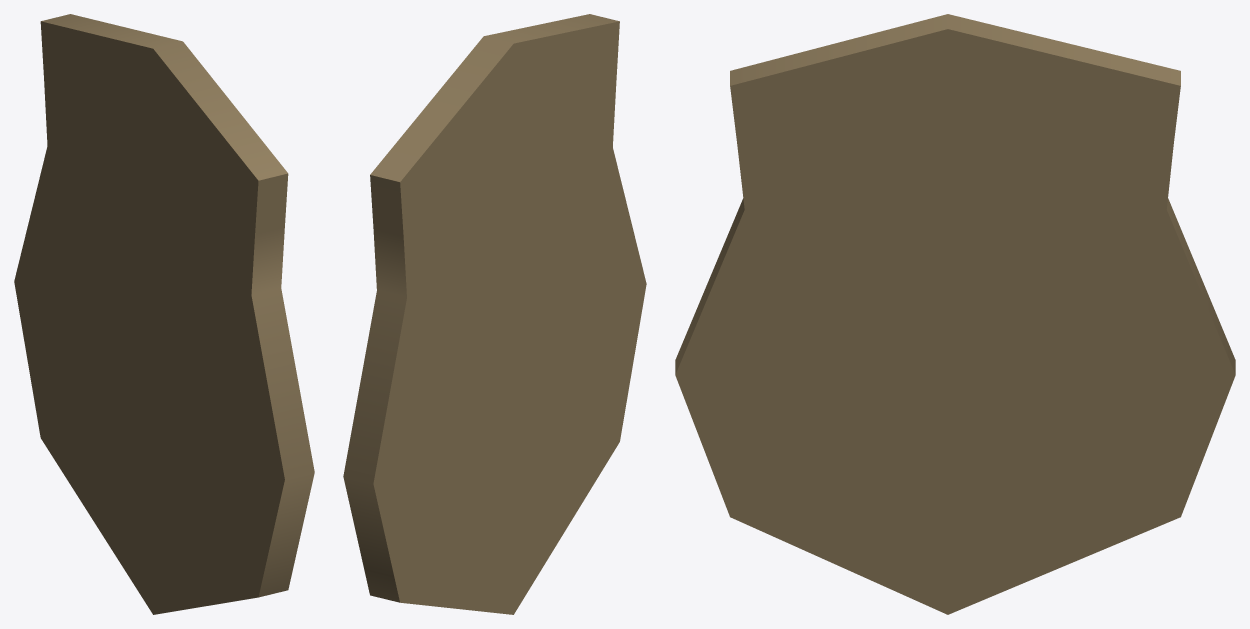
Rendered from Boar_Wood.fbx.
3 renders of one model, left to right at view 1: azimuth 30°, elevation 25°; view 2: azimuth 150°, elevation 25°; view 3: azimuth 270°, elevation 25°, orthographic. The views are drawn at different scales.
Parts seen in each view (by area): view 1: Boar_Wood; view 2: Boar_Wood; view 3: Boar_Wood.
Boxes of the visible parts, x1,y1,x2,y2 form: Boar_Wood: (14,14,314,614); Boar_Wood: (343,14,646,614); Boar_Wood: (675,14,1235,614).
Size of the model in its own units: 8.75 by 159 by 138.
